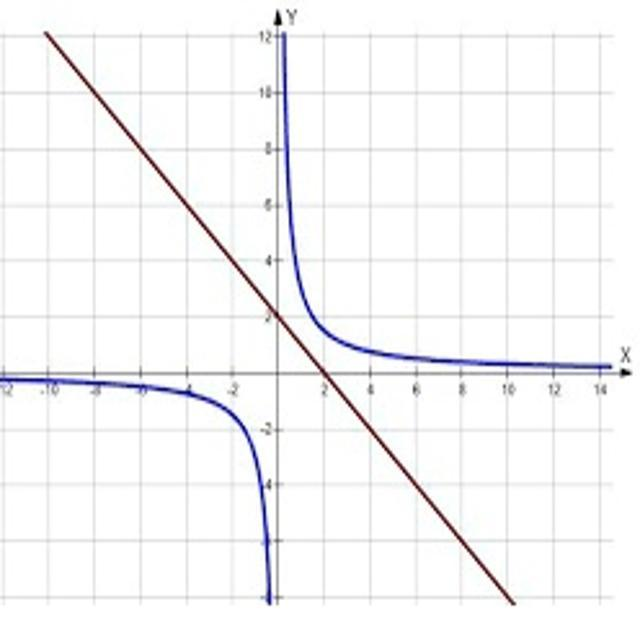axis: (2, 366, 640, 380), (272, 0, 285, 608)
line: (40, 28, 522, 614), (278, 32, 615, 371), (0, 375, 273, 607)
